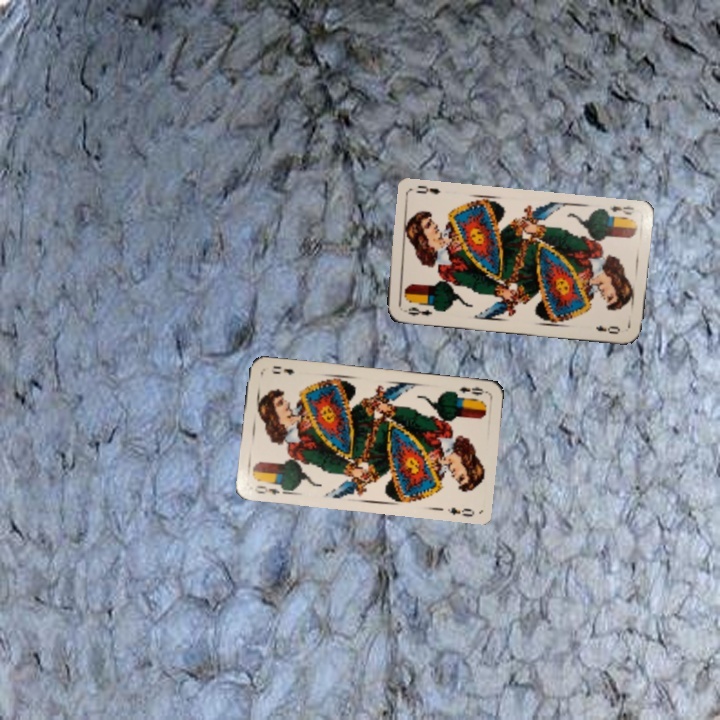EO: (250, 479, 289, 497), (399, 303, 435, 319), (456, 383, 489, 399), (606, 201, 636, 218)
